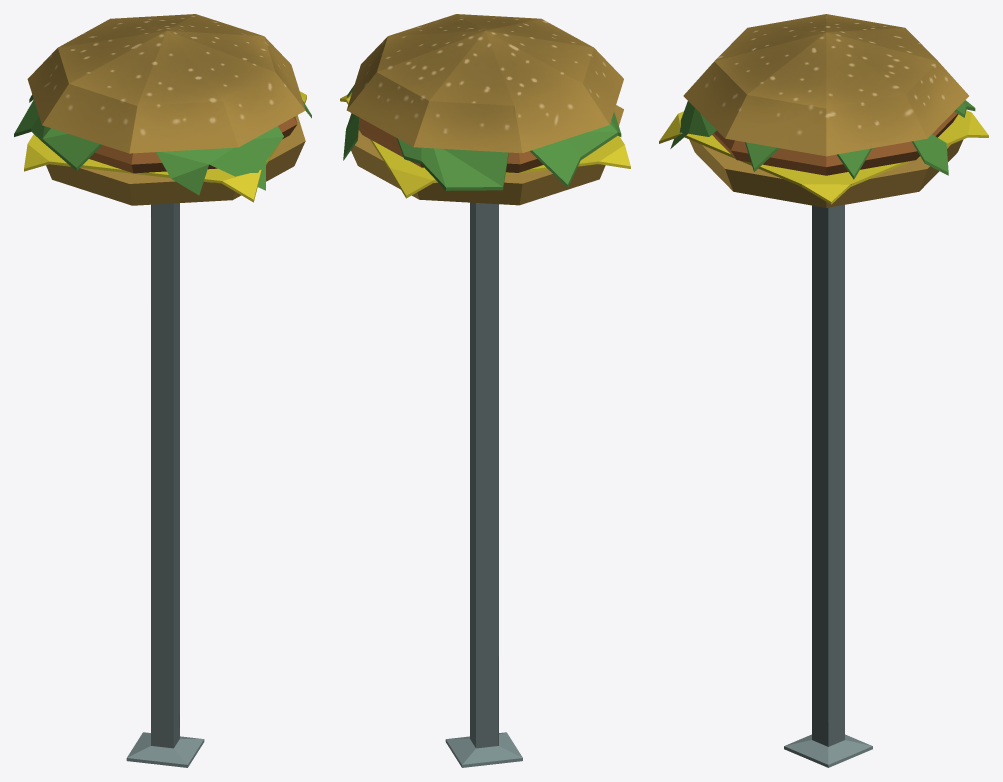
Rendered from BurgerSho_Sign.fbx.
3 renders of one model, left to right at view 1: azimuth 30°, elevation 25°; view 2: azimuth 150°, elevation 25°; view 3: azimuth 270°, elevation 25°, orthographic.
Parts seen in each view (by area): view 1: Cylinder; view 2: Cylinder; view 3: Cylinder.
Boxes of the visible parts, <box> form: Cylinder: <box>14,14,311,767</box>; Cylinder: <box>340,14,630,767</box>; Cylinder: <box>659,14,988,767</box>.
Bounding box in the file's own units: 199 × 479 × 200.
